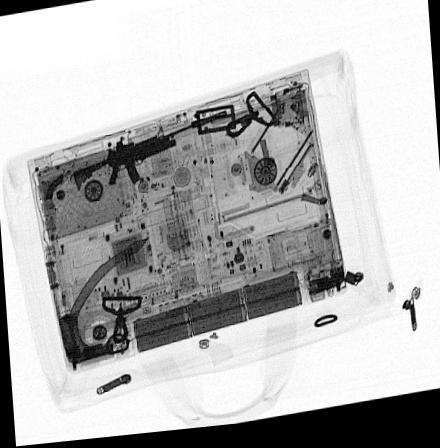Gun: (71, 113, 228, 192)
